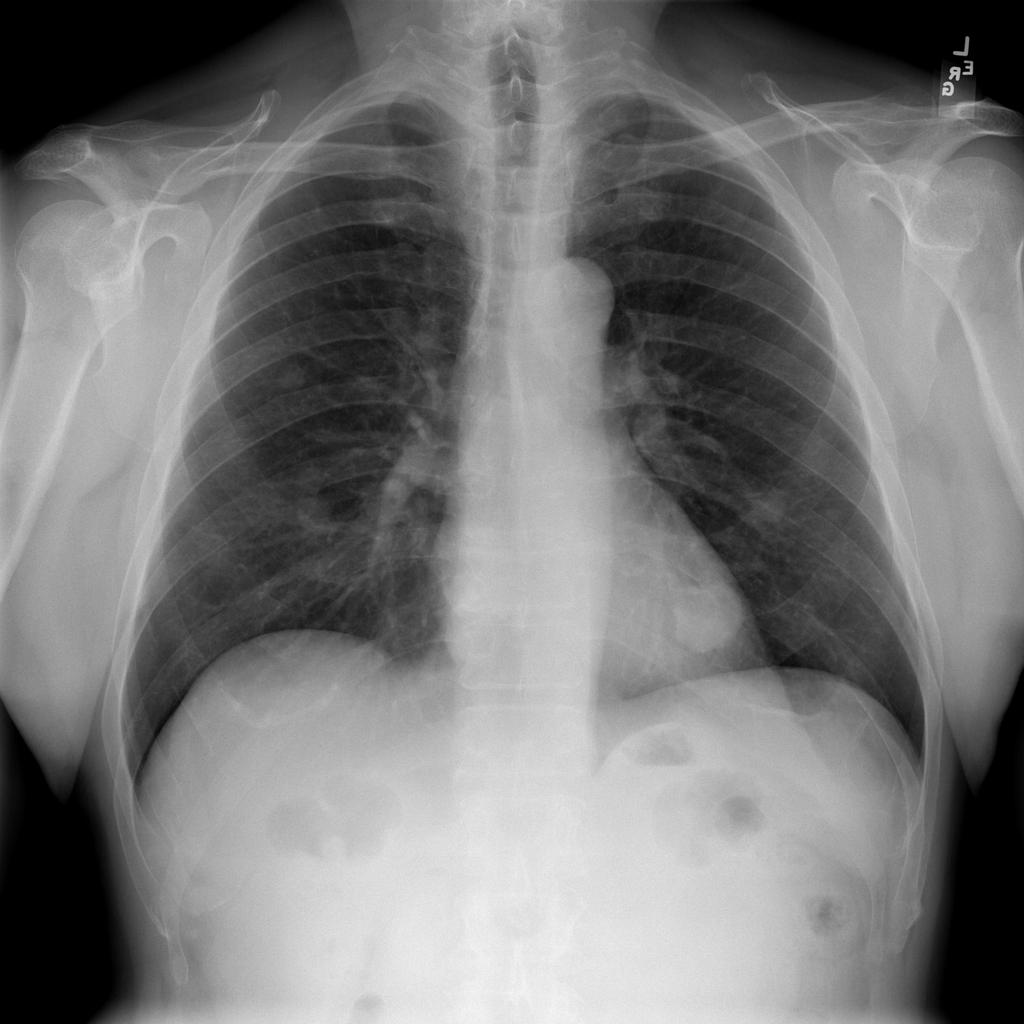nodule: (655, 562, 762, 660), (278, 474, 352, 548), (731, 474, 806, 543), (265, 351, 321, 400), (806, 492, 859, 539)
